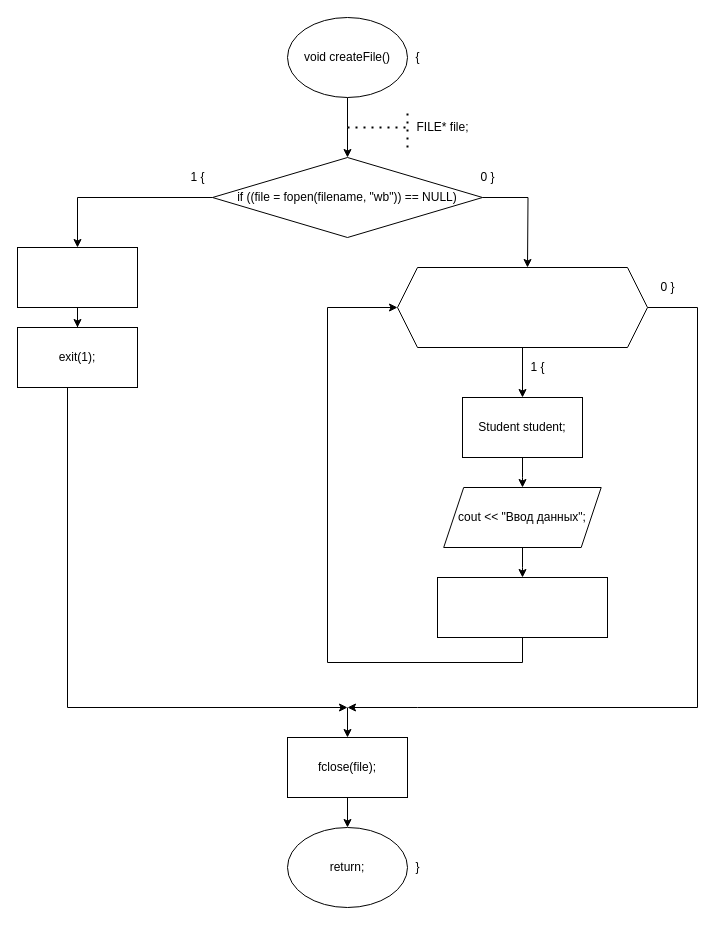
Some shapes in this 723 by 925 pixel diagram are drawn without their labels. Here are the shapes that lost their labels. From the top down, the centre of each, then its label:
(x=77, y=277): cout << "Ошибка";
(x=522, y=307): for (unsigned int i = 1; i <= n; ++i)
(x=522, y=607): fwrite(&student, sizeof(Student), 1, file);
